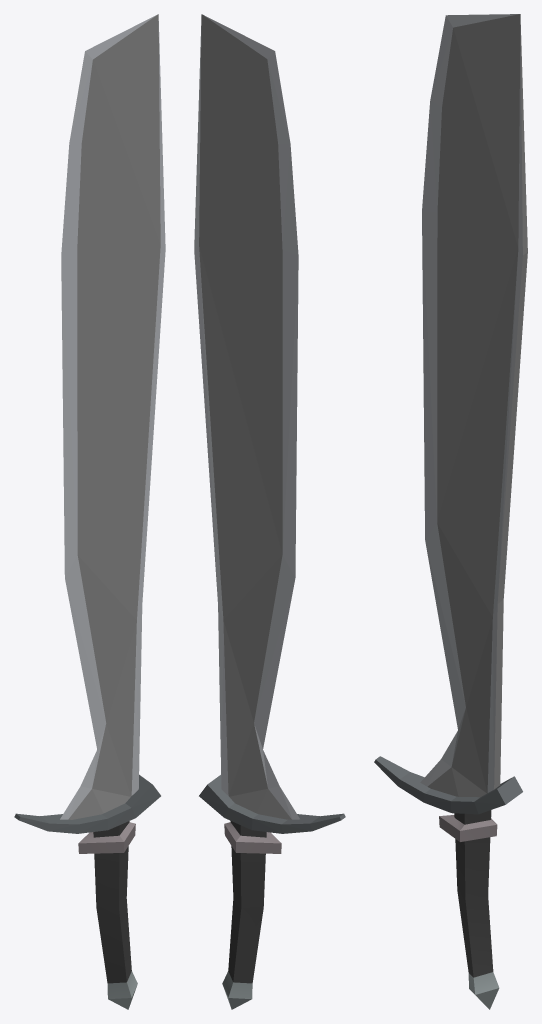
File: Sword_6.fbx
The picture shows the model from 3 angles, left to right: view 1: azimuth 30°, elevation 25°; view 2: azimuth 150°, elevation 25°; view 3: azimuth 330°, elevation 25°; orthographic projection.
Visible parts, largest first — view 1: polySurface459; view 2: polySurface459; view 3: polySurface459.
Part boxes in pixels (bbox=[...]): polySurface459: bbox=[14, 14, 165, 1009]; polySurface459: bbox=[194, 14, 345, 1009]; polySurface459: bbox=[374, 14, 527, 1009].
Size of the model in its own units: 48.27 by 311 by 14.37.
